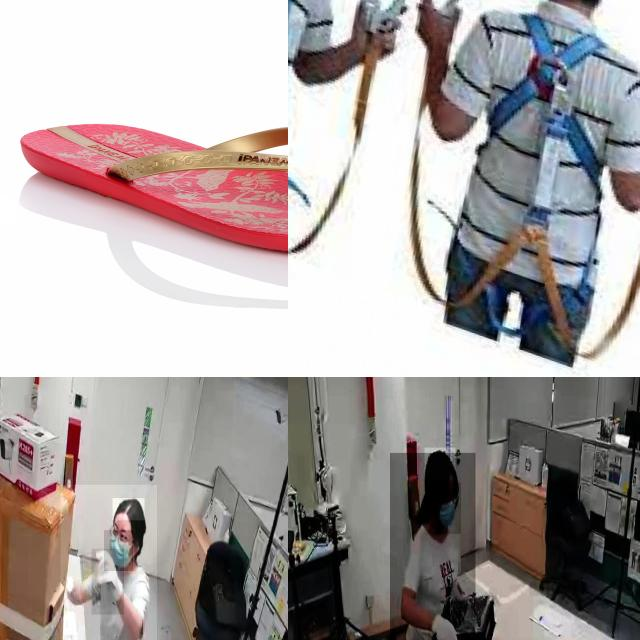Harness: (479, 0, 618, 228)
Sandals: (17, 121, 288, 258)
face_mask: (429, 482, 461, 534), (104, 530, 133, 571)
hand_glove: (92, 548, 124, 614), (428, 610, 466, 640)
head_nohelmet: (424, 448, 456, 480), (113, 498, 145, 521)
person: (390, 452, 476, 640), (60, 484, 157, 640)
